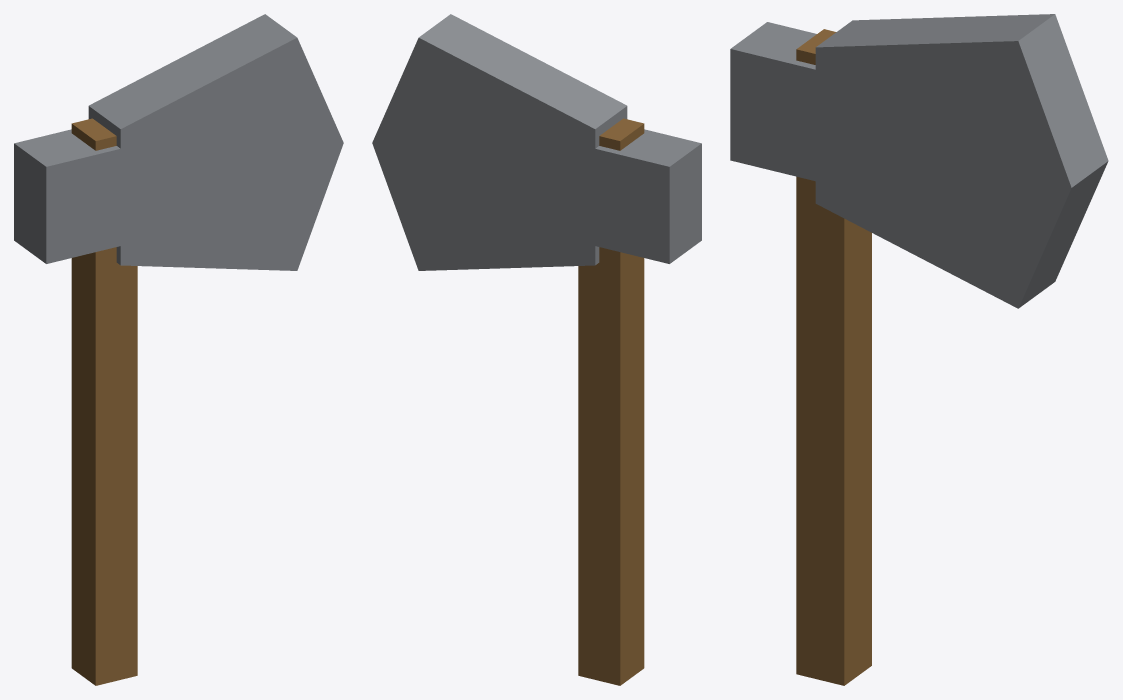
Rendered from axe_stone.fbx.
3 views of the same model, side by side, from view 1: azimuth 30°, elevation 25°; view 2: azimuth 150°, elevation 25°; view 3: azimuth 330°, elevation 25° (orthographic). The views are drawn at different scales.
Parts seen in each view (by area): view 1: axe_stone; view 2: axe_stone; view 3: axe_stone.
Boxes of the visible parts, x1,y1,x2,y2 form: axe_stone: (14,14,343,685); axe_stone: (372,14,701,685); axe_stone: (730,14,1108,685).
Bounding box in the file's own units: 0.96 × 1.86 × 0.18.
